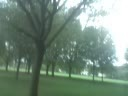window: (63, 62, 78, 96), (64, 13, 79, 39), (36, 17, 49, 43), (100, 7, 112, 34), (32, 64, 43, 93), (3, 23, 11, 49)
